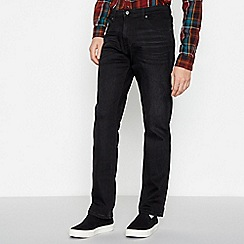jeans: (84, 6, 182, 222)
